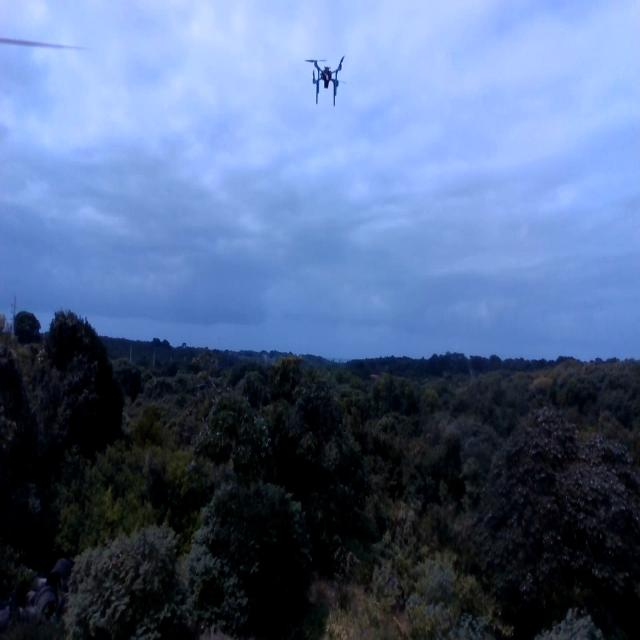-uav-: (297, 49, 359, 115)
